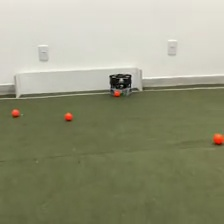ball: (212, 130, 224, 146), (63, 110, 74, 121), (10, 106, 20, 117), (113, 88, 121, 96)
goal: (13, 64, 143, 100)
robot: (108, 72, 133, 97)
